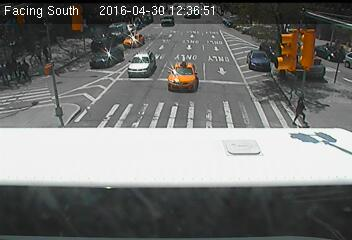neg: (65, 115, 107, 171), (129, 43, 168, 95), (178, 120, 217, 171), (114, 162, 149, 210), (276, 27, 309, 72), (207, 53, 237, 93)
pos: (287, 90, 316, 129)
